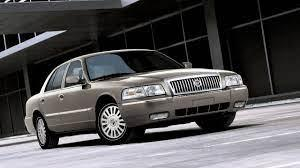Mercury: (191, 78, 208, 90)
